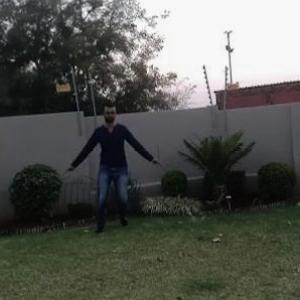land: (61, 106, 159, 234)
